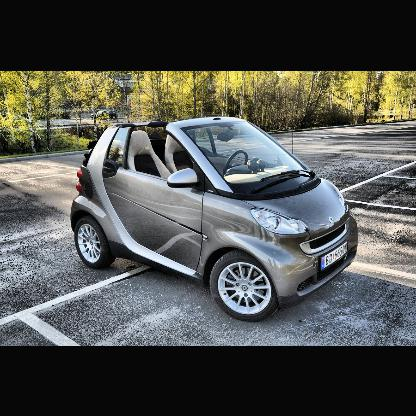smart fortwo Convertible 2012: (71, 116, 361, 326)
